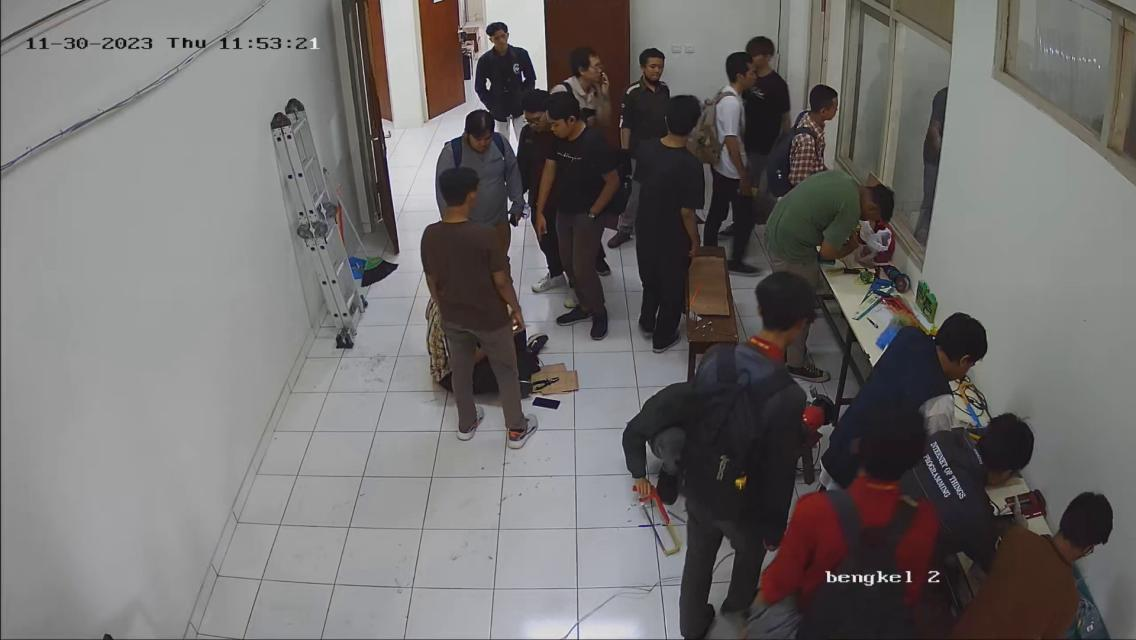Crowd: (638, 265, 1136, 640), (399, 23, 843, 437)
